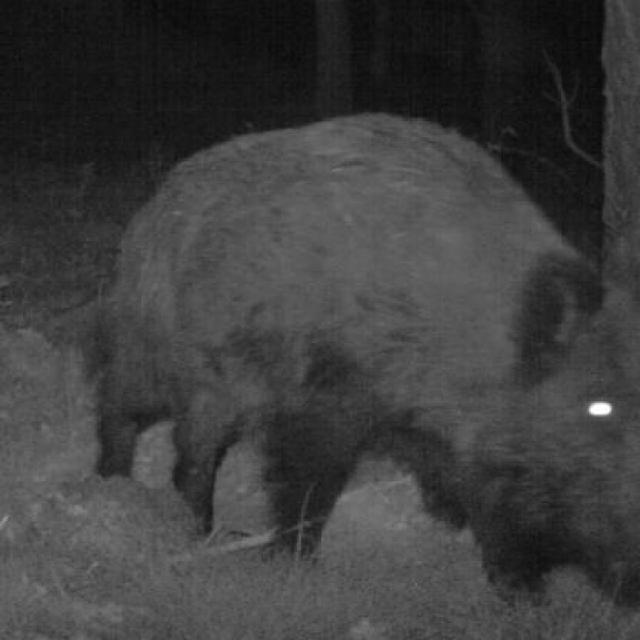WildBoar: (64, 62, 639, 640)
